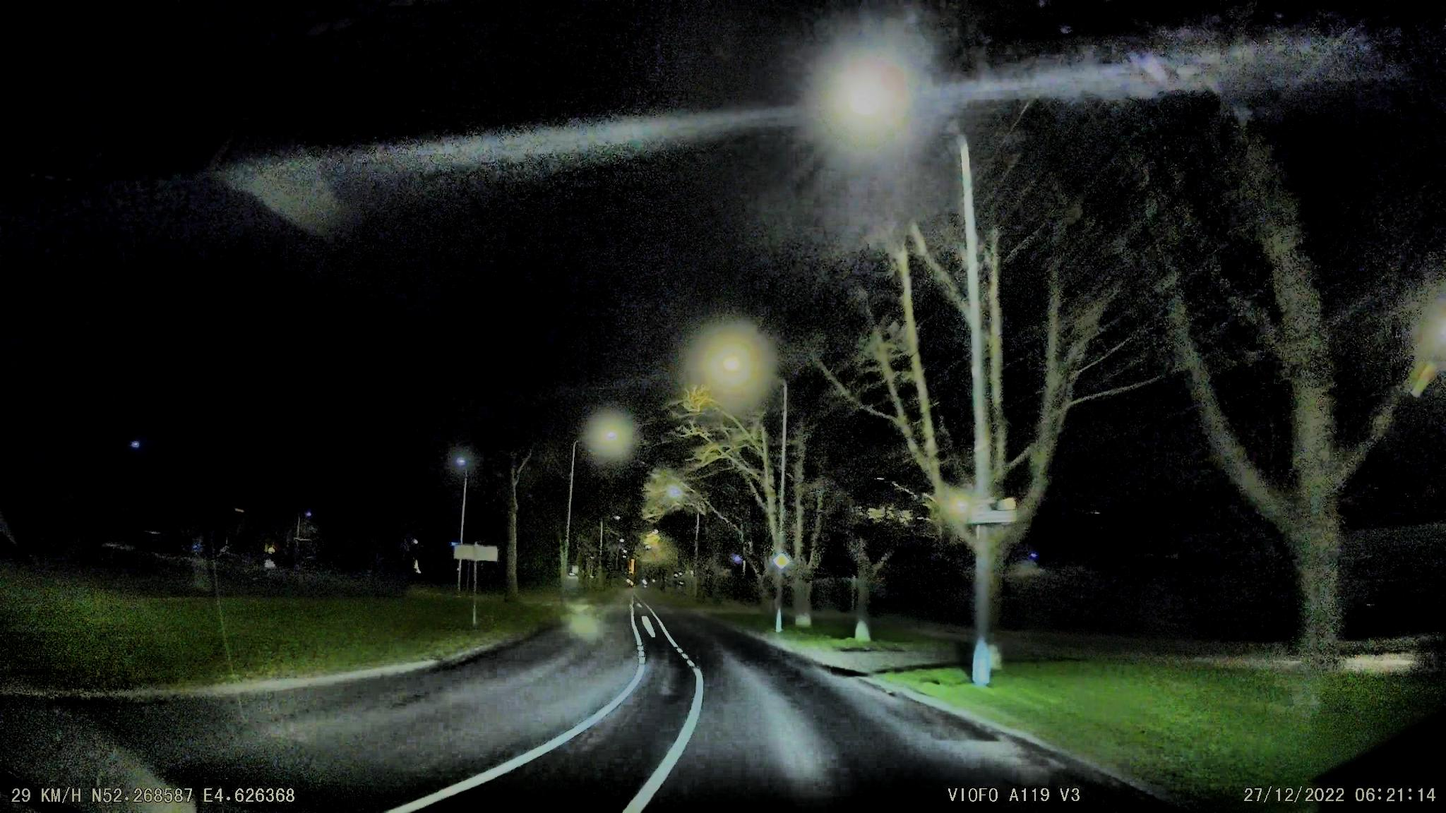Roads: (0, 613, 1190, 813)
